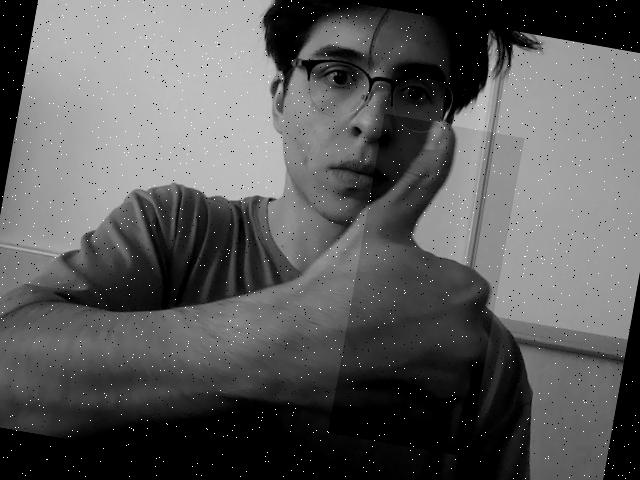good: (328, 113, 524, 457)
